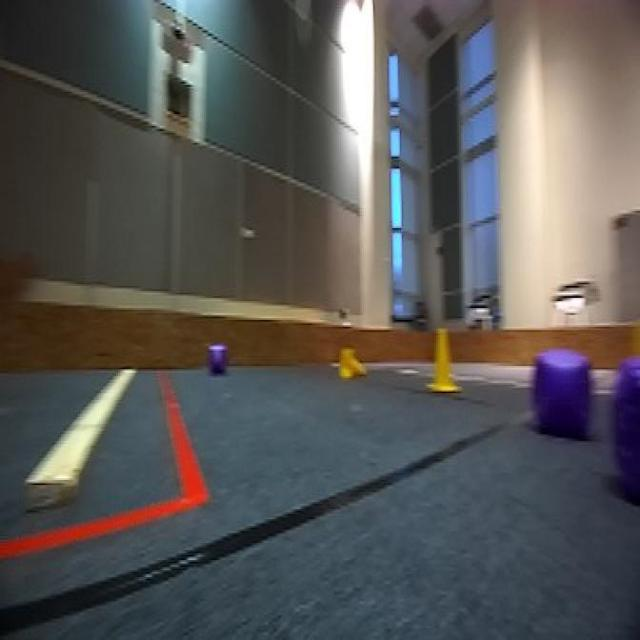frc_cone: (426, 325, 459, 398), (337, 346, 366, 380)
frc_cube: (528, 335, 600, 439), (605, 347, 640, 523), (204, 342, 228, 380)
